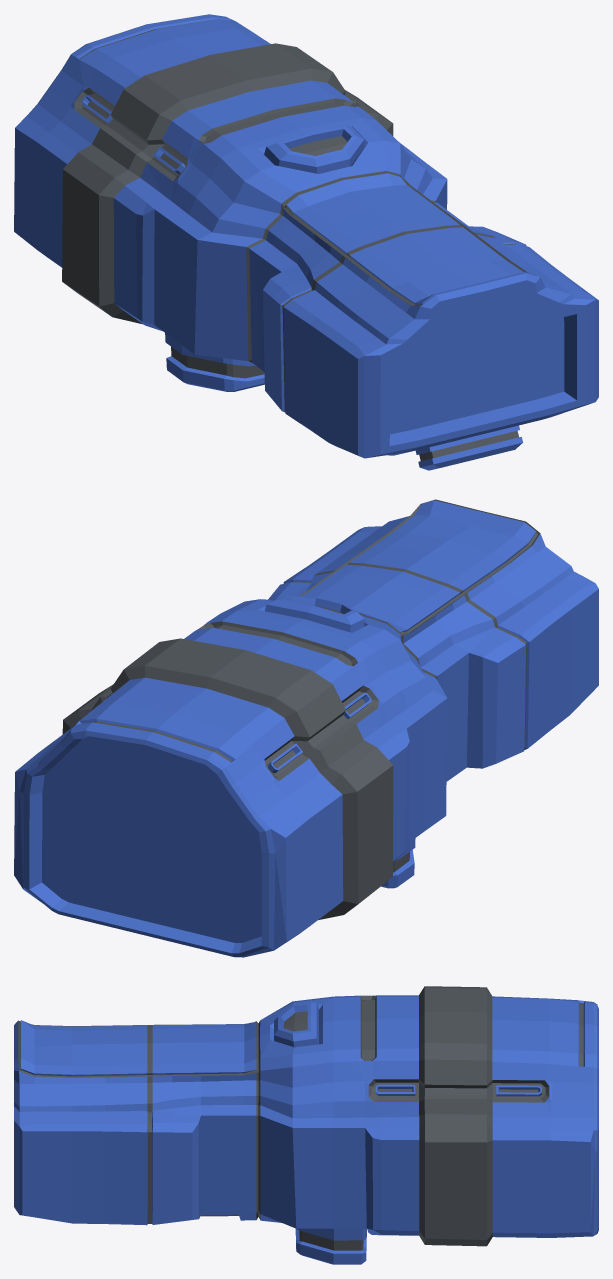
Rendered from Fighter_10_Rear_Body_Blue.fbx.
The picture shows the model from 3 angles, top to bottom: view 1: azimuth 30°, elevation 25°; view 2: azimuth 150°, elevation 25°; view 3: azimuth 270°, elevation 25°; orthographic projection. The views are drawn at different scales.
Parts seen in each view (by area): view 1: Fighter_10_Rear_Body_Blue; view 2: Fighter_10_Rear_Body_Blue; view 3: Fighter_10_Rear_Body_Blue.
Part boxes in pixels (x1,y1,x2,y2): Fighter_10_Rear_Body_Blue: (14, 14, 598, 470); Fighter_10_Rear_Body_Blue: (14, 499, 598, 957); Fighter_10_Rear_Body_Blue: (14, 986, 598, 1264).
Bounding box in the file's own units: 1046 × 803 × 2066.
2 materials, 2 textured.
